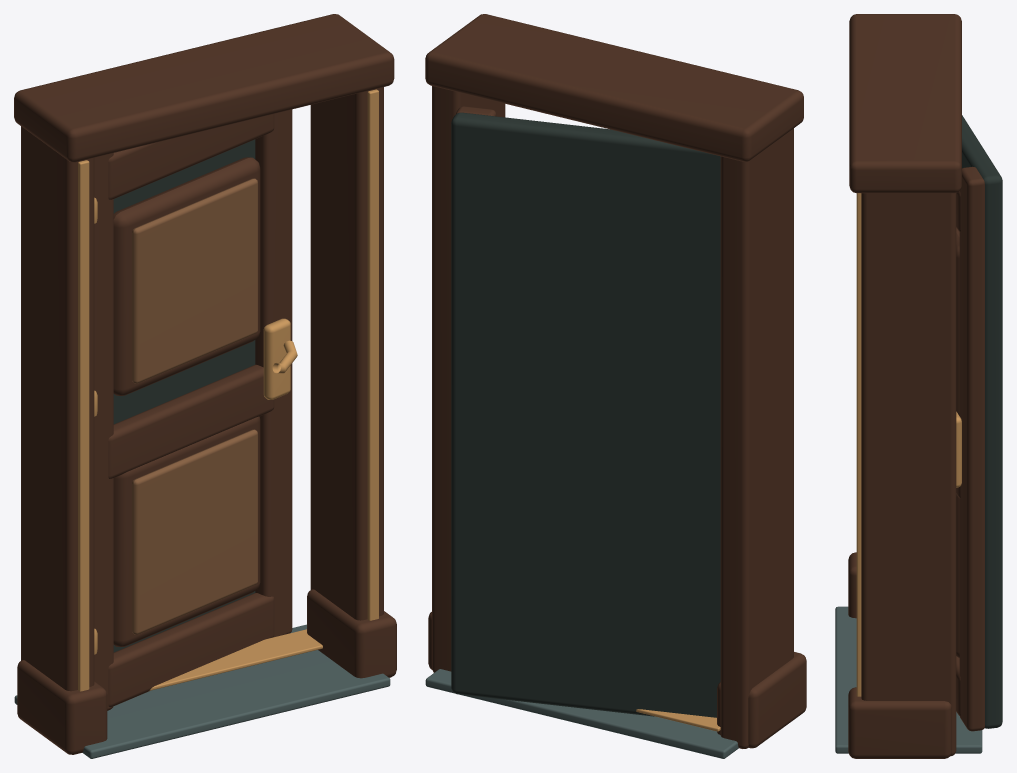
The model's file is service_door.glb.
3 renders of one model, left to right at view 1: azimuth 30°, elevation 25°; view 2: azimuth 150°, elevation 25°; view 3: azimuth 270°, elevation 25°, orthographic. The views are drawn at different scales.
Parts seen in each view (by area): view 1: Jamb with rounded arris, Jamb with rounded arris.001, Segmented cornice, Raised centre field, Raised centre field.001, Continuous structural stile.001, Threshold plate, Continuous structural stile, Tenoned door rail, Tenoned door rail.001, Ovolo raised panel.001, Jamb bronze stop (+8 smaller); view 2: Recessed plank door, Jamb with rounded arris, Segmented cornice, Jamb with rounded arris.001, Threshold plate, Plinth block, Stone slip; view 3: Jamb with rounded arris.001, Segmented cornice, Continuous structural stile.001, Recessed plank door, Plinth block.001, Threshold plate, Jamb bronze stop.001, Ovolo raised panel.001, Ovolo raised panel, Plinth block, Thumb latch escutcheon.
Part boxes in pixels (bbox=[...]): Jamb with rounded arris: bbox=[21, 126, 94, 691]; Jamb with rounded arris.001: bbox=[310, 87, 383, 620]; Segmented cornice: bbox=[14, 14, 394, 162]; Raised centre field: bbox=[132, 429, 257, 634]; Raised centre field.001: bbox=[132, 178, 257, 383]; Continuous structural stile.001: bbox=[255, 109, 292, 636]; Threshold plate: bbox=[14, 624, 390, 758]; Continuous structural stile: bbox=[94, 153, 113, 710]; Tenoned door rail: bbox=[108, 593, 274, 706]; Tenoned door rail.001: bbox=[108, 364, 274, 478]; Ovolo raised panel.001: bbox=[113, 157, 260, 395]; Jamb bronze stop: bbox=[78, 160, 89, 691]; Recessed plank door: bbox=[451, 112, 720, 717]; Jamb with rounded arris: bbox=[720, 128, 793, 748]; Segmented cornice: bbox=[425, 14, 803, 161]; Jamb with rounded arris.001: bbox=[432, 86, 505, 672]; Threshold plate: bbox=[425, 669, 738, 758]; Plinth block: bbox=[717, 652, 806, 748]; Stone slip: bbox=[636, 709, 720, 731]; Jamb with rounded arris.001: bbox=[861, 193, 956, 756]; Segmented cornice: bbox=[849, 14, 961, 193]; Continuous structural stile.001: bbox=[959, 166, 984, 731]; Recessed plank door: bbox=[962, 115, 1002, 728]; Plinth block.001: bbox=[848, 687, 951, 758]; Threshold plate: bbox=[835, 606, 982, 753]; Jamb bronze stop.001: bbox=[856, 193, 861, 696]; Ovolo raised panel.001: bbox=[956, 228, 959, 415]; Ovolo raised panel: bbox=[956, 494, 959, 657]; Plinth block: bbox=[848, 552, 856, 618]; Thumb latch escutcheon: bbox=[956, 411, 961, 487].
Bounding box in the file's own units: 1.27 × 2.28 × 0.5805.
